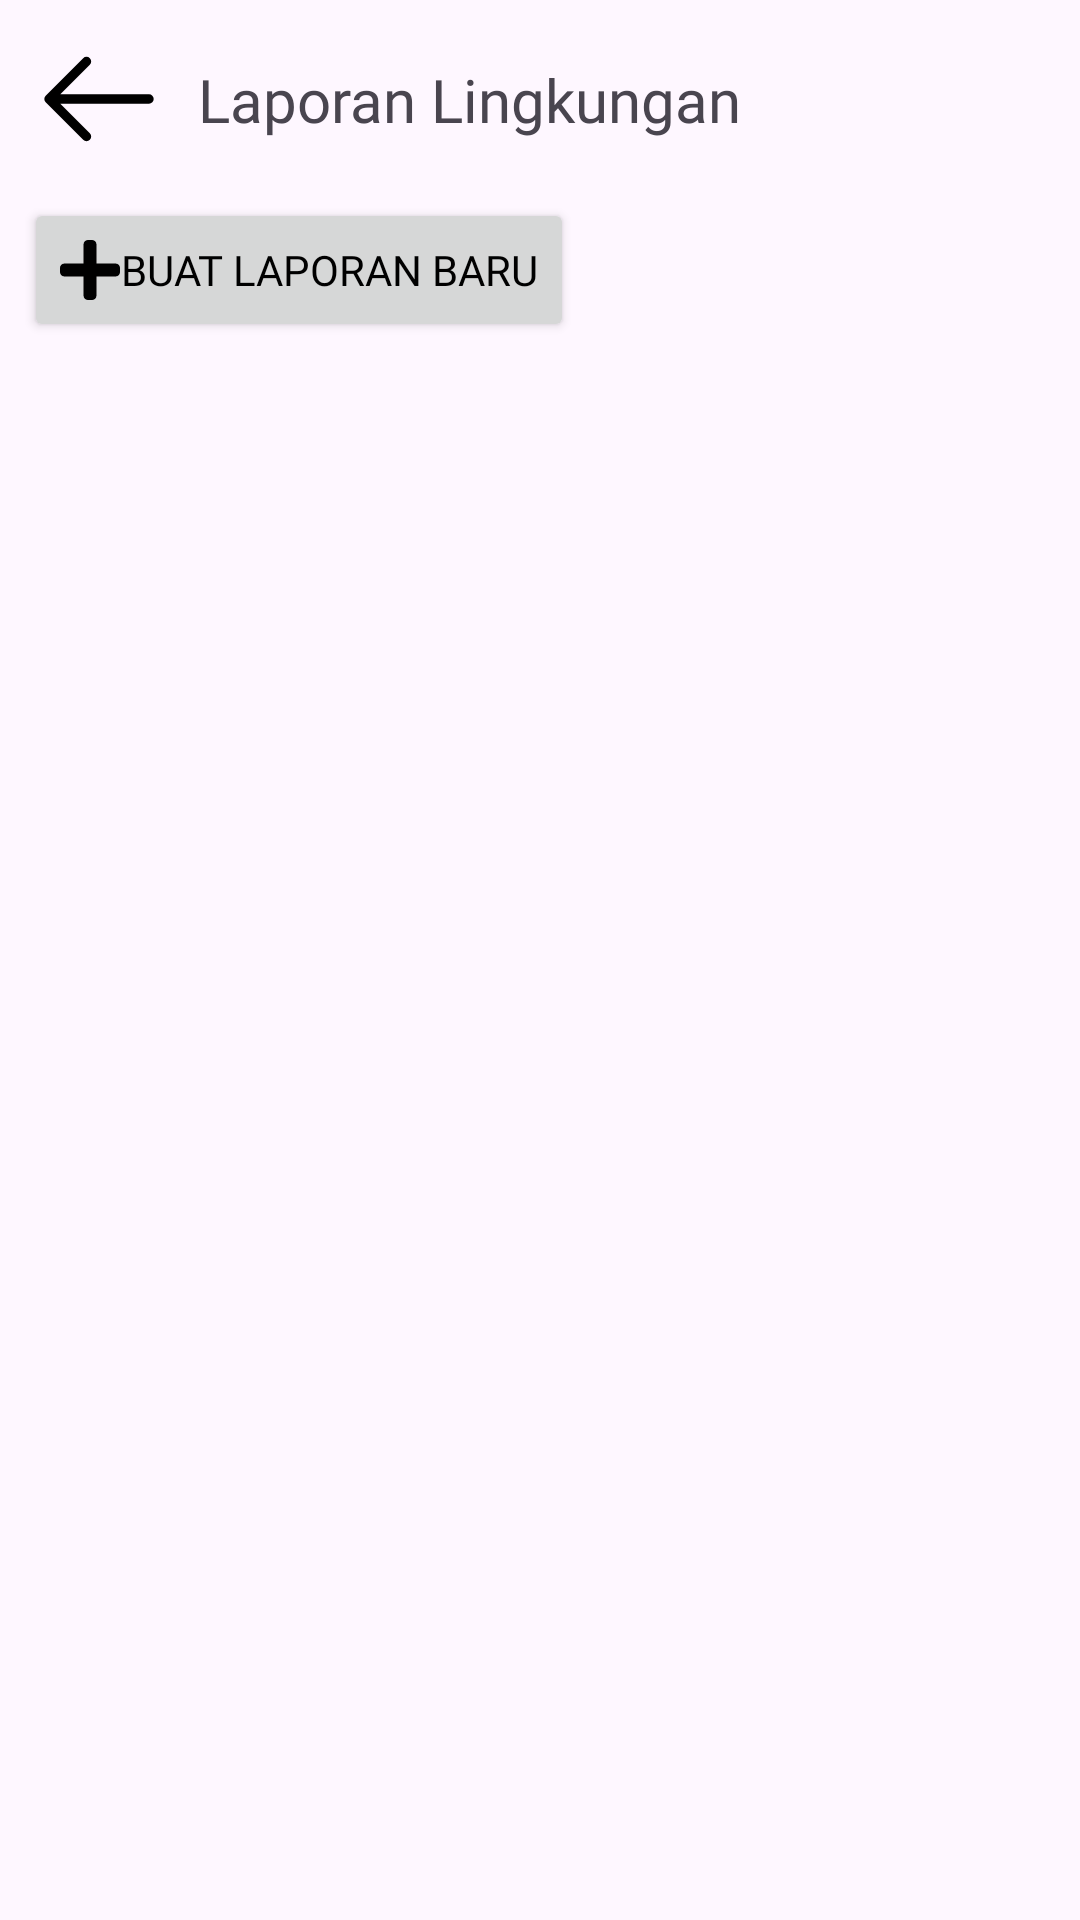

Locate icon controls on the screen. Image size 1080x1920, boxes as box=[x1, y1, x2, y2].
back: box=[44, 56, 154, 142]
